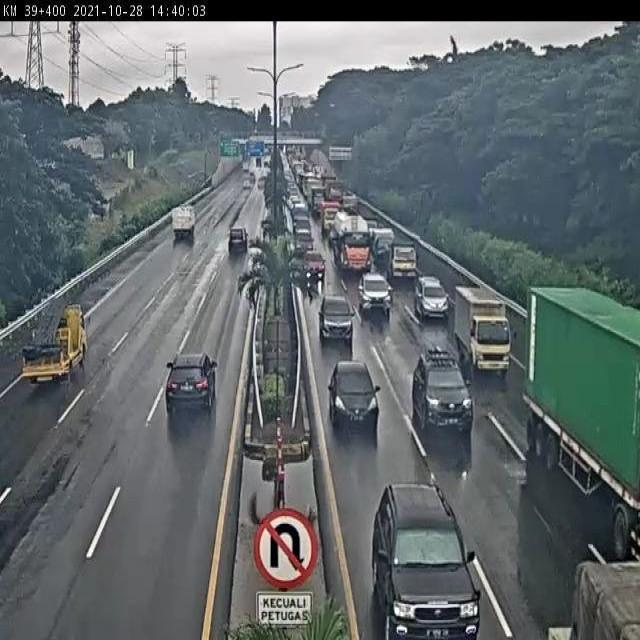car: (372, 484, 481, 640), (411, 354, 475, 434), (327, 360, 379, 428), (165, 352, 220, 411), (318, 292, 356, 345), (409, 272, 448, 317), (358, 272, 391, 312), (371, 228, 396, 263), (302, 248, 326, 279), (227, 226, 249, 254)
truck: (21, 300, 88, 385), (453, 288, 514, 376), (329, 209, 372, 276), (387, 243, 418, 283), (168, 204, 195, 243)
